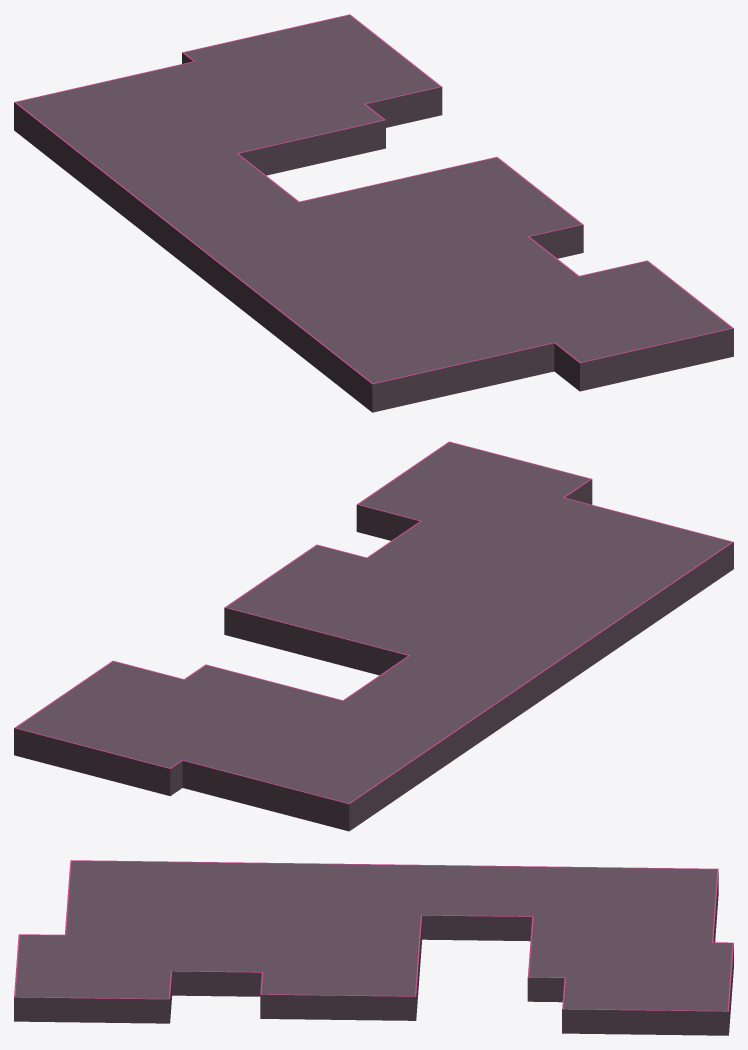
The model's file is way-641119432.glb.
3 renders of one model, top to bottom at view 1: azimuth 30°, elevation 25°; view 2: azimuth 150°, elevation 25°; view 3: azimuth 270°, elevation 25°, orthographic. The views are drawn at different scales.
Parts seen in each view (by area): view 1: way-641119432; view 2: way-641119432; view 3: way-641119432.
Part boxes in pixels (x1=…): way-641119432: x1=14, y1=14, x2=733, y2=412; way-641119432: x1=14, y1=441, x2=733, y2=831; way-641119432: x1=14, y1=860, x2=733, y2=1035.
Size of the model in its own units: 40.25 by 3 by 80.92.
